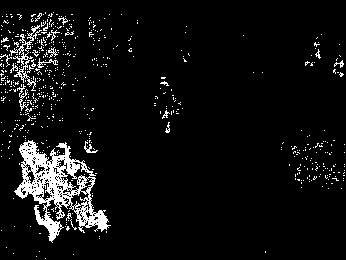person: (13, 140, 80, 241), (46, 141, 110, 233)
